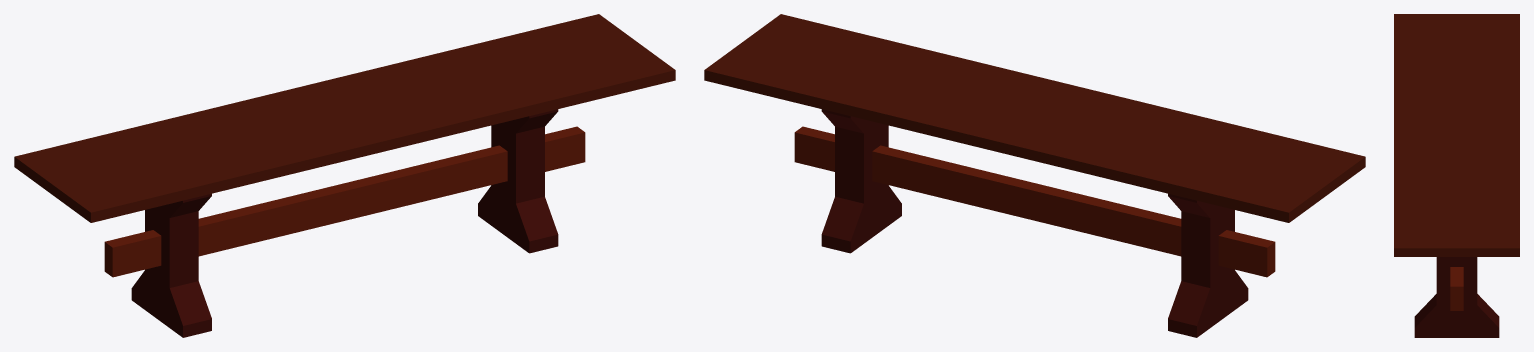
The model's file is Banco - Madeira.fbx.
The picture shows the model from 3 angles, left to right: view 1: azimuth 30°, elevation 25°; view 2: azimuth 150°, elevation 25°; view 3: azimuth 270°, elevation 25°; orthographic projection. The views are drawn at different scales.
Visible parts, largest first — view 1: Banco; view 2: Banco; view 3: Banco.
Boxes of the visible parts, x1,y1,x2,y2 form: Banco: (14,14,675,337); Banco: (704,14,1365,337); Banco: (1394,14,1519,337).
Size of the model in its own units: 200 by 52.31 by 45.38.
